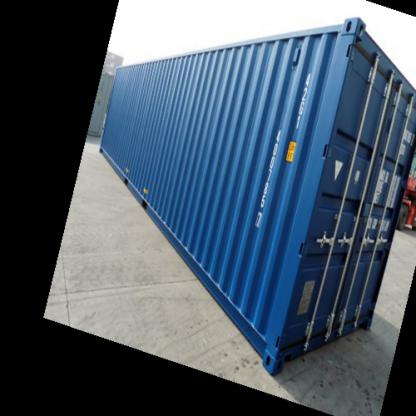Damage: (138, 179, 153, 203)
